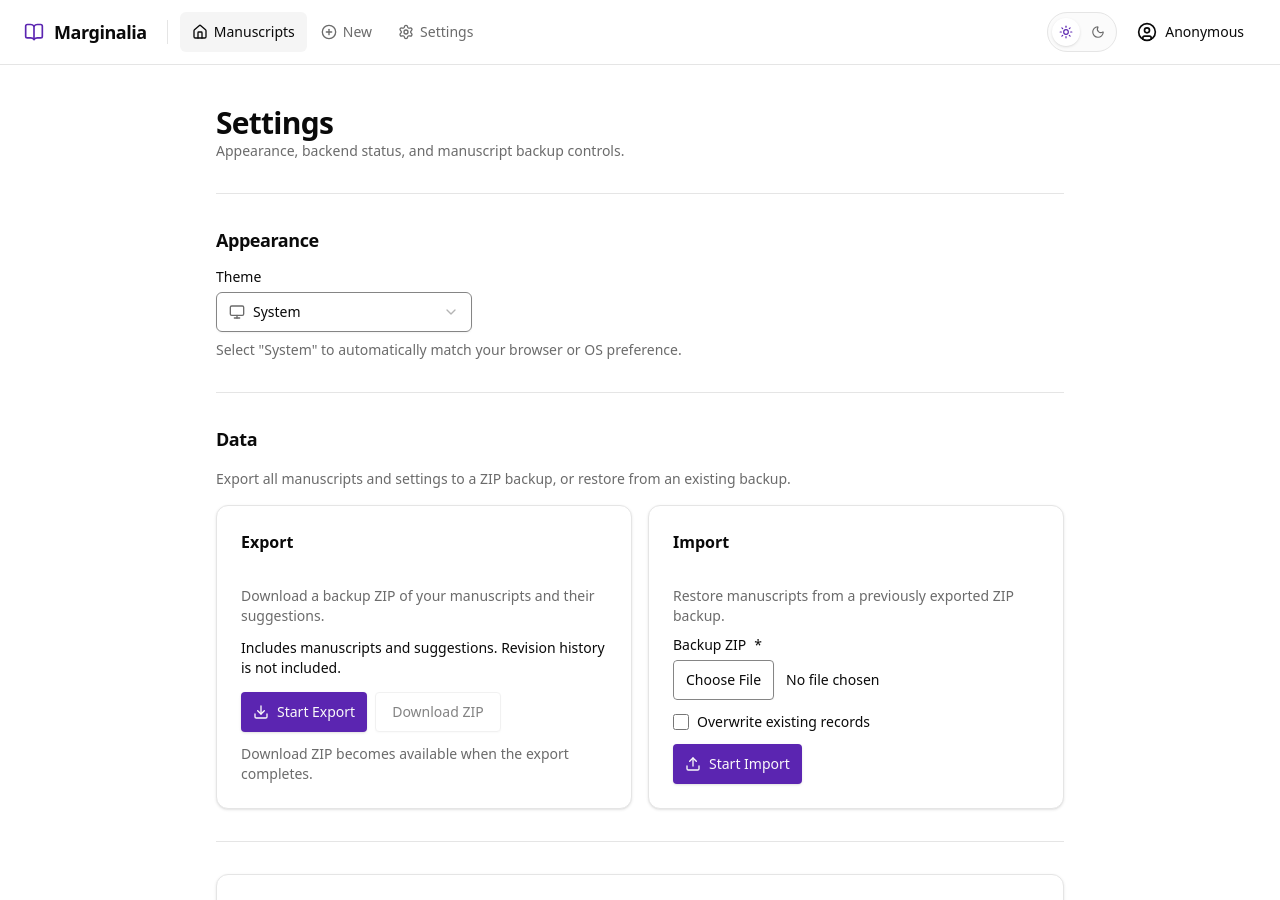
Scenario: SettingsPage › validates a missing or unsupported backup and focuses its field
This screenshot has width=1280, height=900.
Click the button "Start Import".
click(737, 764)  # box [673,744,802,784]
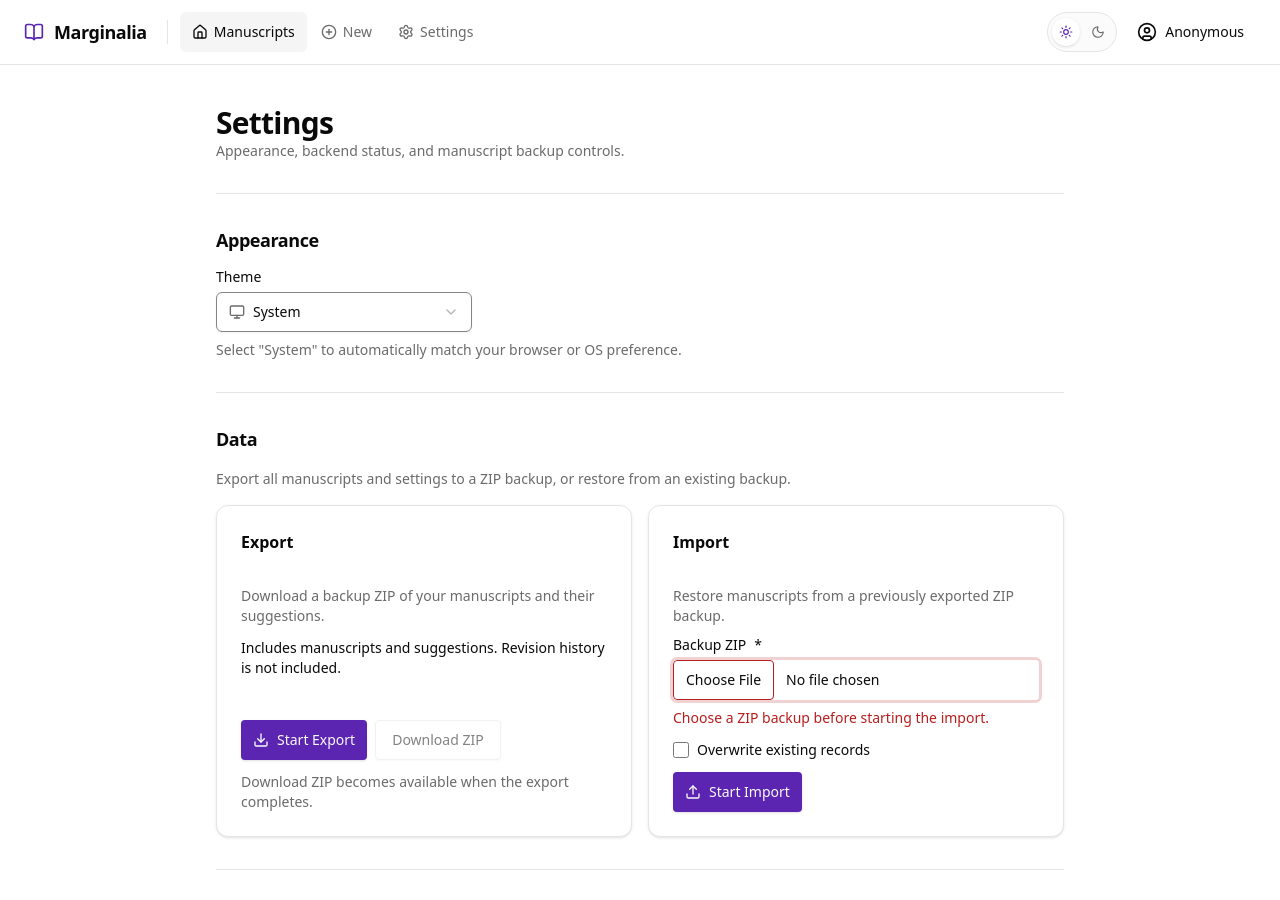
Now the message shows "Choose a ZIP backup", box [673,708,989,727]
